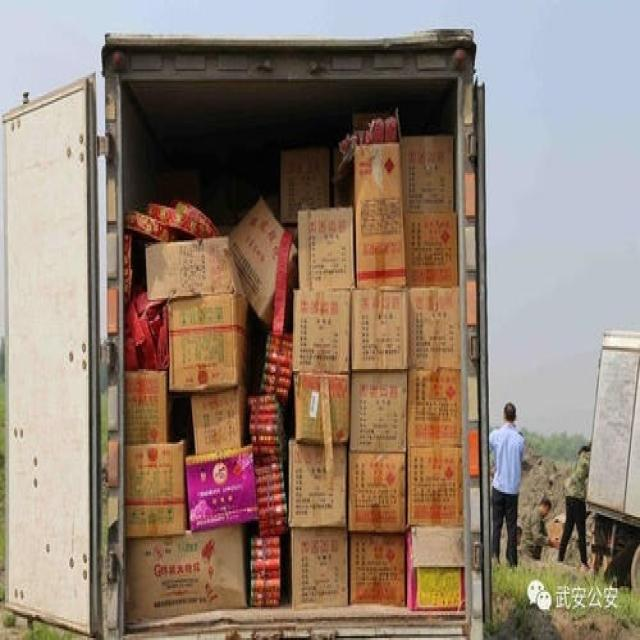box: (124, 525, 244, 623), (232, 196, 298, 327), (169, 292, 248, 394), (125, 431, 188, 536), (186, 442, 259, 530), (146, 236, 246, 300), (288, 427, 347, 529), (347, 371, 410, 454), (353, 194, 407, 288), (352, 288, 410, 373), (406, 284, 461, 373), (298, 206, 356, 290), (347, 450, 407, 530), (291, 527, 351, 607), (407, 527, 465, 609), (294, 292, 352, 373), (348, 529, 407, 607), (293, 371, 352, 446), (407, 448, 463, 527), (407, 371, 462, 448), (403, 211, 458, 286), (189, 386, 248, 454), (402, 136, 454, 211), (280, 148, 329, 223), (124, 371, 174, 444), (355, 140, 402, 208)
